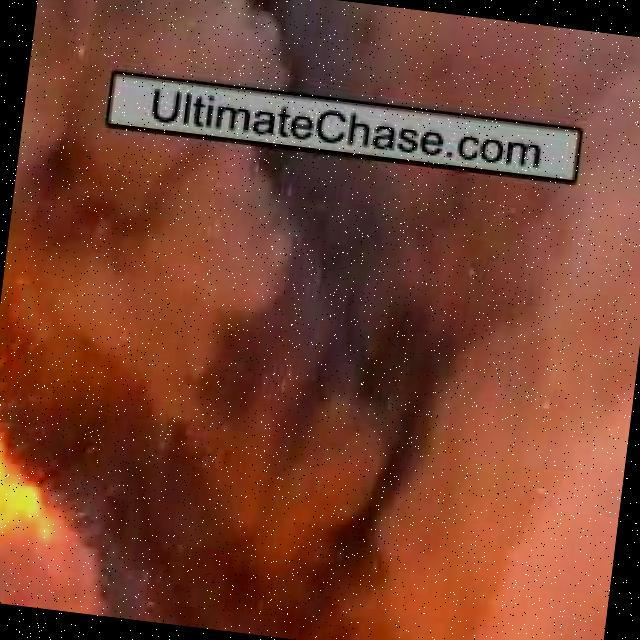Fire: (0, 384, 125, 610)
